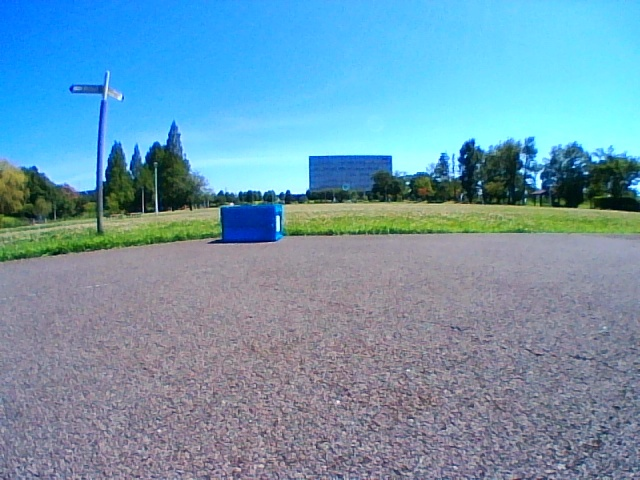blue_box: (220, 203, 282, 242)
tag: (276, 215, 279, 230)
